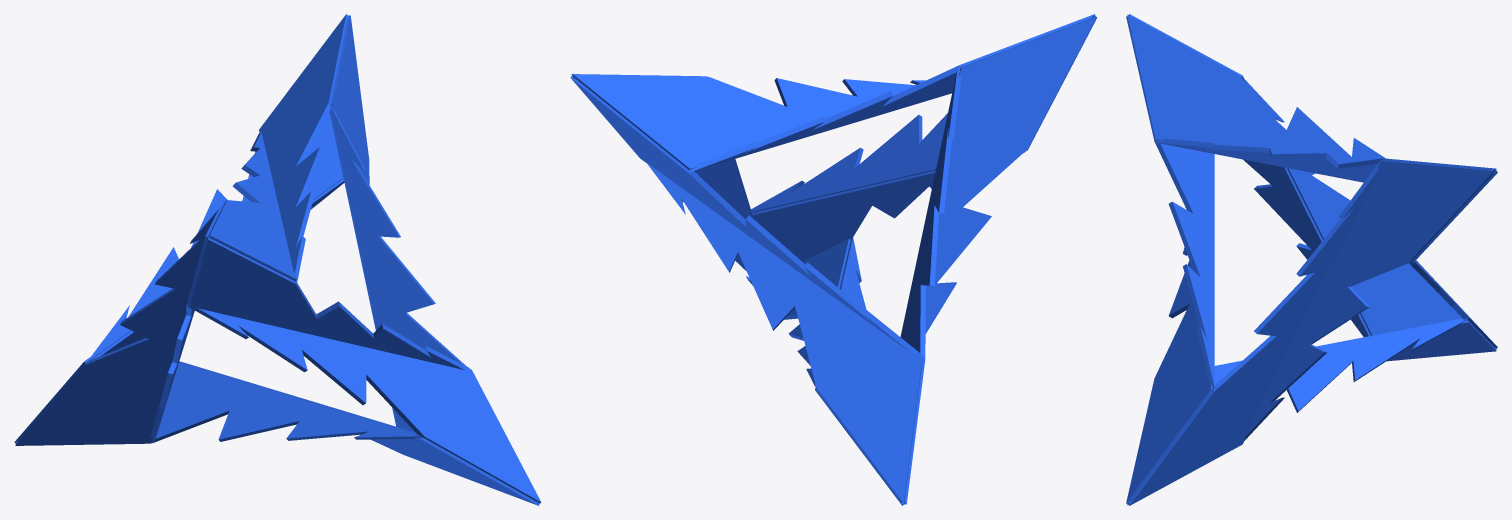
The model's file is Tetrahedron2.glb.
3 renders of one model, left to right at view 1: azimuth 30°, elevation 25°; view 2: azimuth 150°, elevation 25°; view 3: azimuth 270°, elevation 25°, orthographic. The views are drawn at different scales.
Parts seen in each view (by area): view 1: root; view 2: root; view 3: root.
Part boxes in pixels (x1,y1,x2,y2): root: (14,14,541,505); root: (570,14,1097,505); root: (1126,14,1497,505).
Size of the model in its own units: 0.7144 by 0.7144 by 0.7144.
